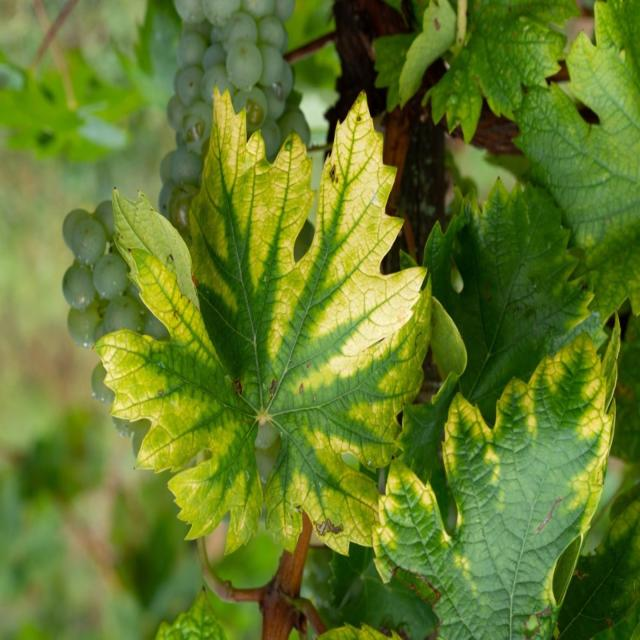Chlorosis: (39, 132, 420, 555)
